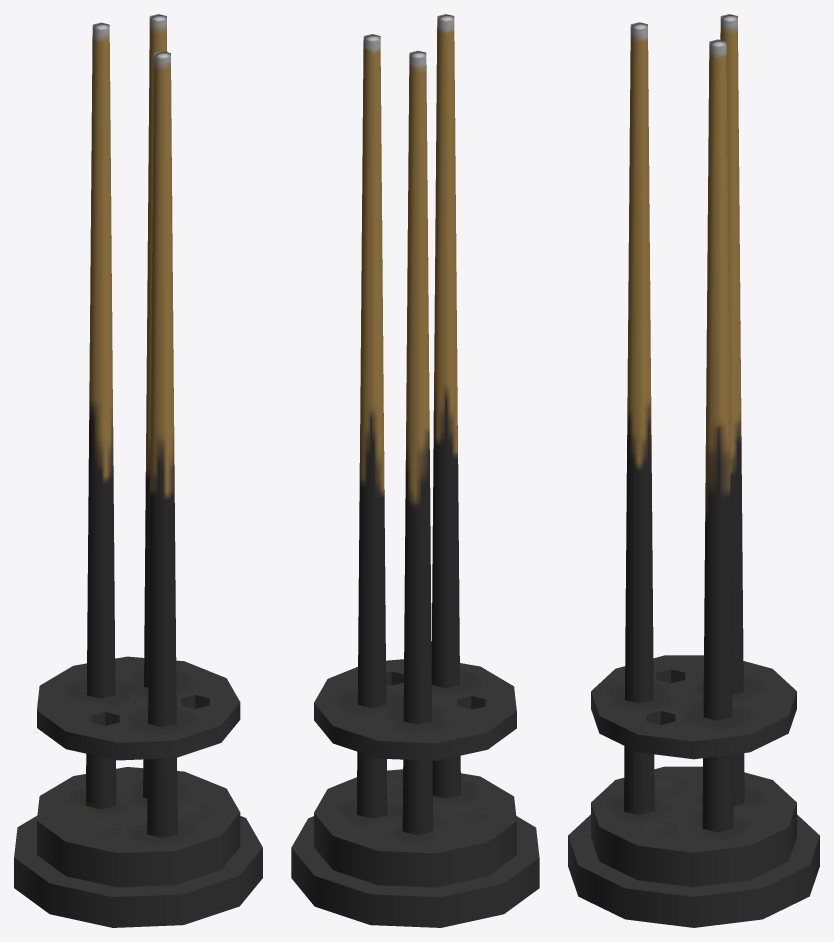
File: pool cue.fbx
The picture shows the model from 3 angles, left to right: view 1: azimuth 30°, elevation 25°; view 2: azimuth 150°, elevation 25°; view 3: azimuth 270°, elevation 25°; orthographic projection.
Parts seen in each view (by area): view 1: polySurface433; view 2: polySurface433; view 3: polySurface433.
Boxes of the visible parts, x1,y1,x2,y2 form: polySurface433: (14,14,262,927); polySurface433: (291,14,539,927); polySurface433: (568,14,819,927).
Bounding box in the file's own units: 0.4696 × 1.76 × 0.4744.
1 material, 1 textured.
